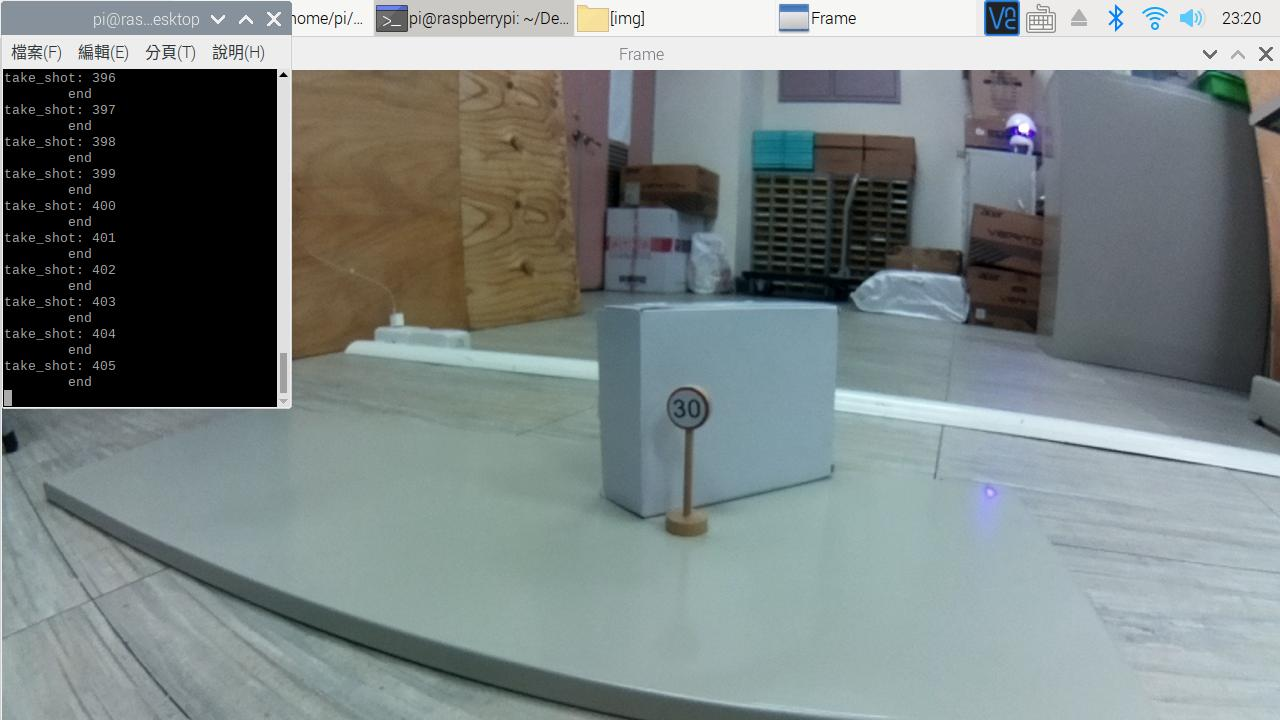Speed30: (646, 374, 746, 453)
